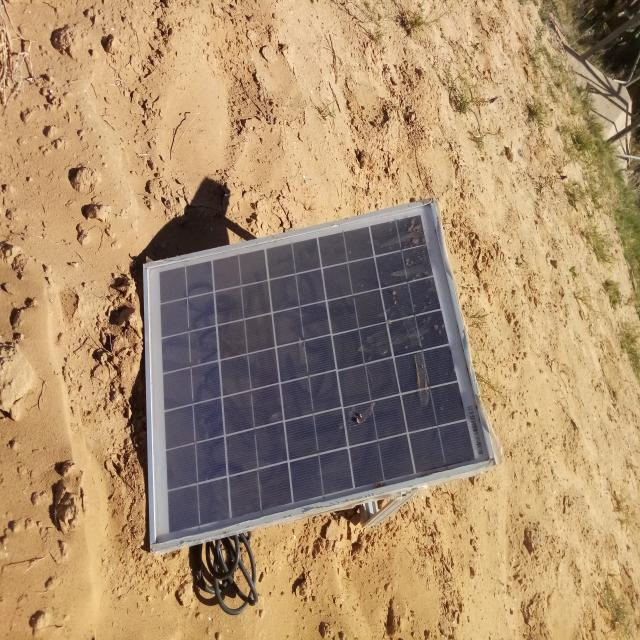faulty: (146, 200, 493, 548)
